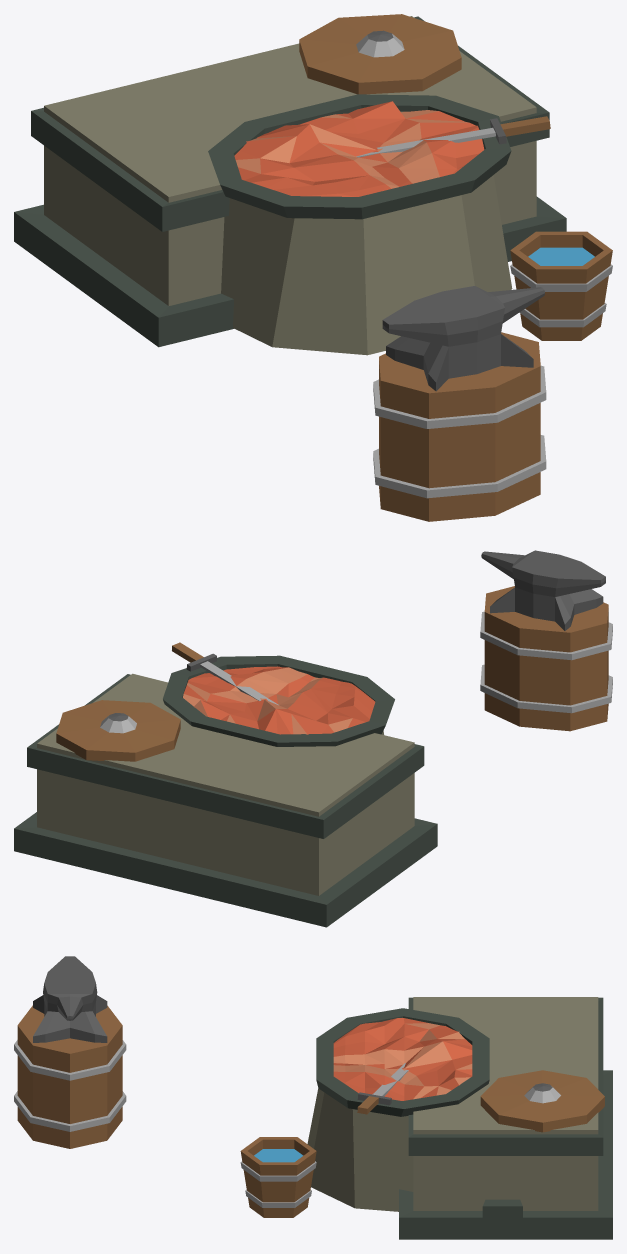
Rendered from Smithy_1_lvl_mat.fbx.
3 views of the same model, one above another, from view 1: azimuth 30°, elevation 25°; view 2: azimuth 150°, elevation 25°; view 3: azimuth 270°, elevation 25° (orthographic). The views are drawn at different scales.
Parts seen in each view (by area): view 1: Smithy_1_lvl_mat; view 2: Smithy_1_lvl_mat; view 3: Smithy_1_lvl_mat.
Boxes of the visible parts, left/top/right/bottom form: Smithy_1_lvl_mat: left=14, top=14, right=612, bottom=521; Smithy_1_lvl_mat: left=14, top=550, right=612, bottom=927; Smithy_1_lvl_mat: left=14, top=956, right=612, bottom=1239.
Bounding box in the file's own units: 1.44 × 0.62 × 2.44.
